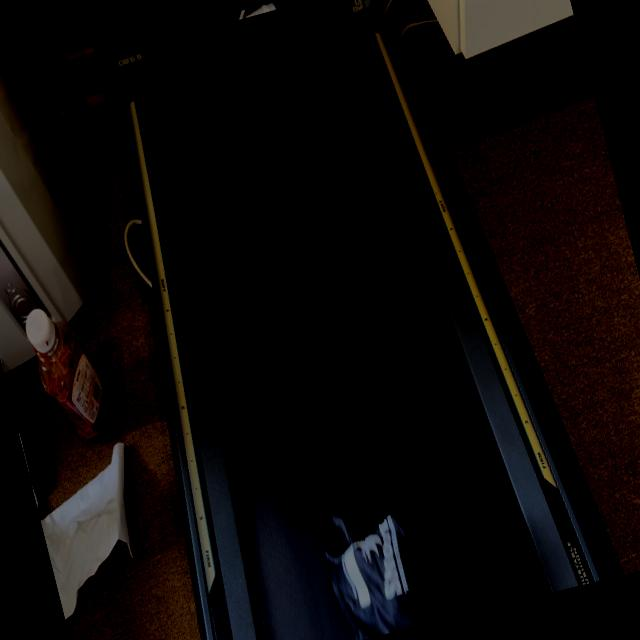Trash: (302, 460, 447, 640)
